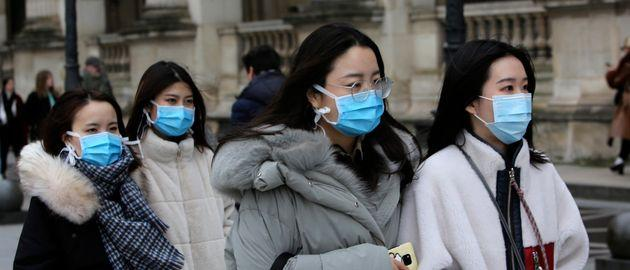with_mask: (317, 69, 390, 135), (479, 74, 536, 143), (63, 119, 126, 169), (148, 90, 198, 139)
